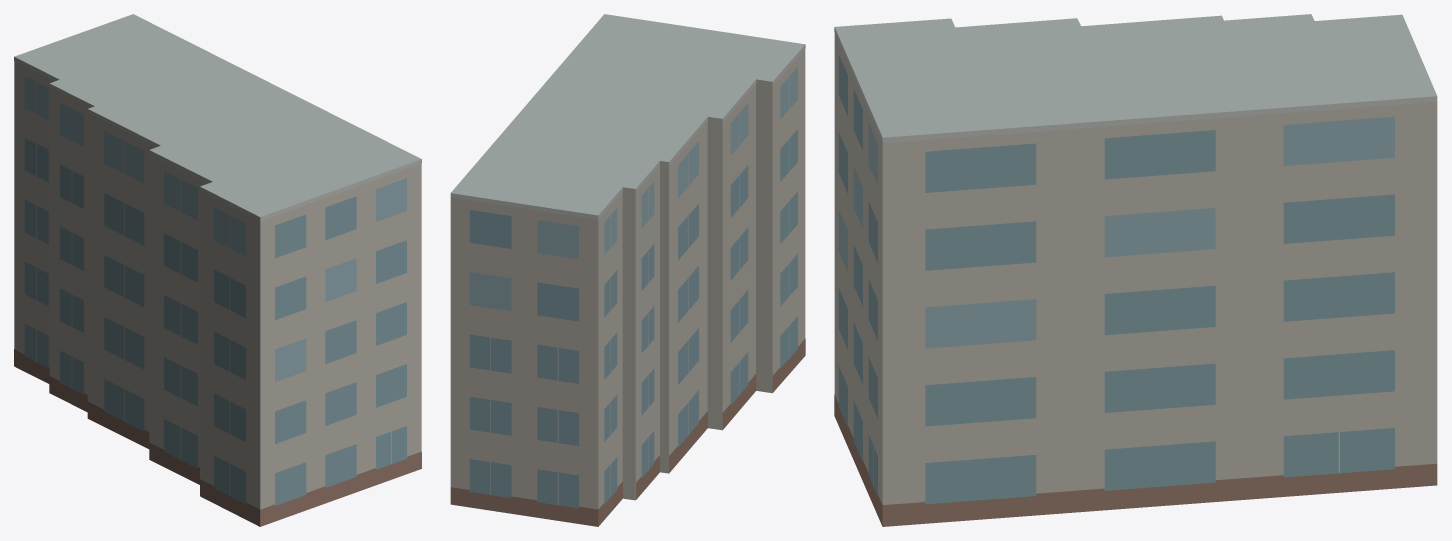
Rendered from survey-upis-32734842.glb.
3 renders of one model, left to right at view 1: azimuth 30°, elevation 25°; view 2: azimuth 150°, elevation 25°; view 3: azimuth 270°, elevation 25°, orthographic. The views are drawn at different scales.
Parts seen in each view (by area): view 1: survey-upis-32734842.tmp; view 2: survey-upis-32734842.tmp; view 3: survey-upis-32734842.tmp.
Part boxes in pixels (left/top/right/bottom): survey-upis-32734842.tmp: left=14, top=14, right=421, bottom=526; survey-upis-32734842.tmp: left=450, top=14, right=805, bottom=526; survey-upis-32734842.tmp: left=834, top=14, right=1437, bottom=526.
Size of the model in its own units: 11.93 by 17.48 by 24.55.
